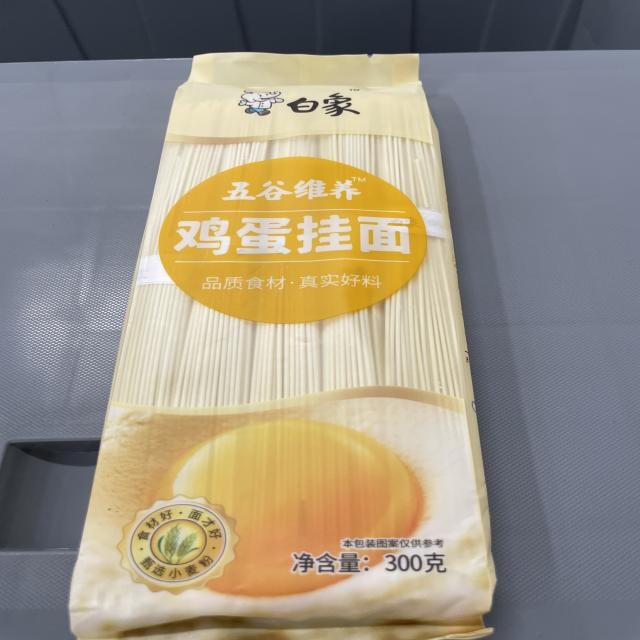object_name: (120, 57, 493, 632)
